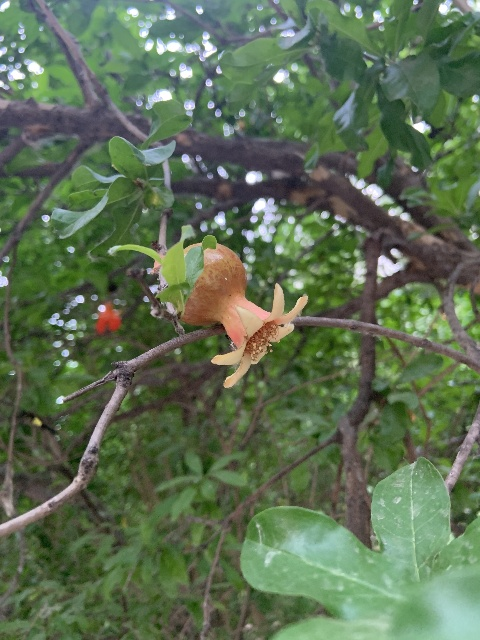early-fruit: (179, 242, 309, 389)
flower: (95, 302, 122, 334)
